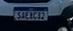Placa_mercosul_carro: (14, 8, 47, 21)
